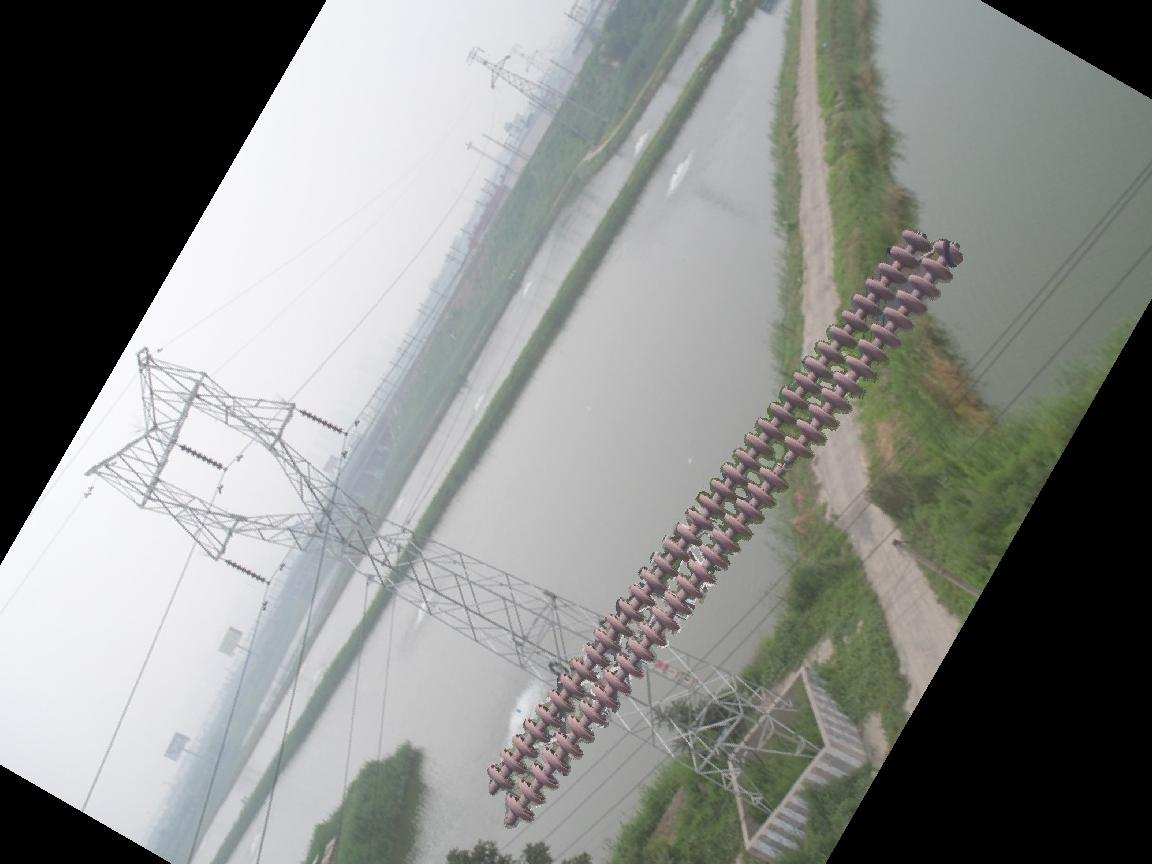insulator: (484, 222, 968, 828), (296, 406, 347, 439), (223, 553, 271, 588), (176, 441, 226, 474)
insulator_stringdrop: (756, 432, 818, 494)
